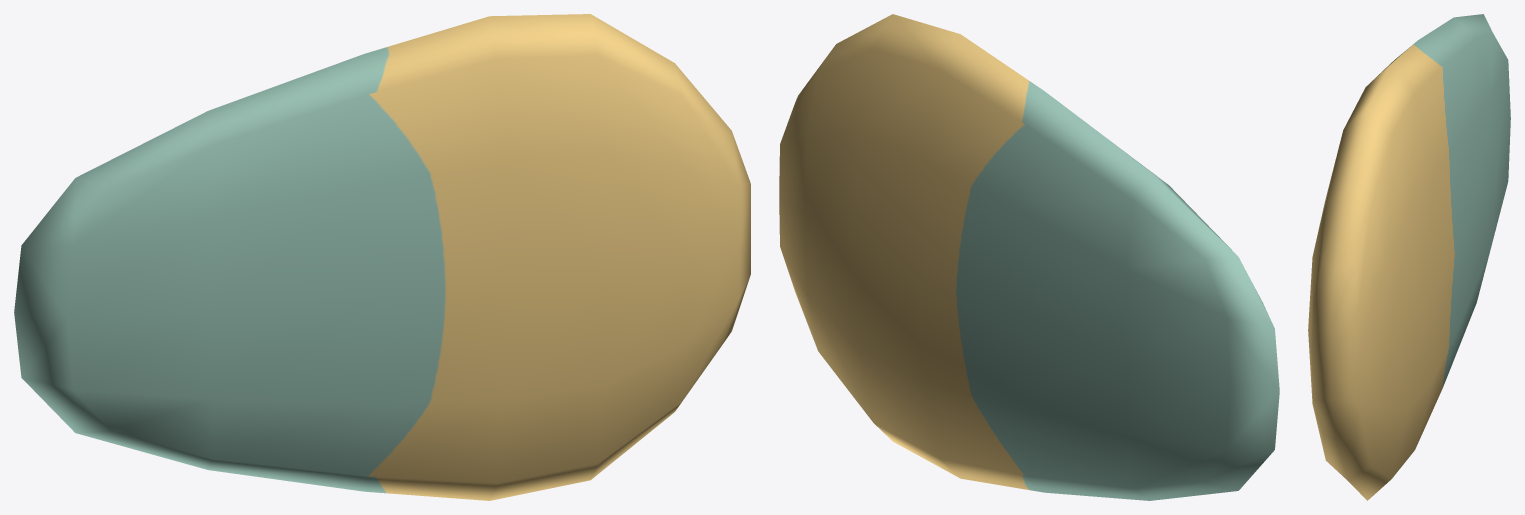
The model's file is Fin.fbx.
3 renders of one model, left to right at view 1: azimuth 30°, elevation 25°; view 2: azimuth 150°, elevation 25°; view 3: azimuth 270°, elevation 25°, orthographic. The views are drawn at different scales.
Visible parts, largest first — view 1: polySurface1; view 2: polySurface1; view 3: polySurface1.
Boxes of the visible parts, x1,y1,x2,y2 form: polySurface1: (14,14,750,500); polySurface1: (779,14,1279,500); polySurface1: (1308,14,1510,500).
Bounding box in the file's own units: 0.3884 × 0.282 × 0.127.
1 material, 1 textured.
